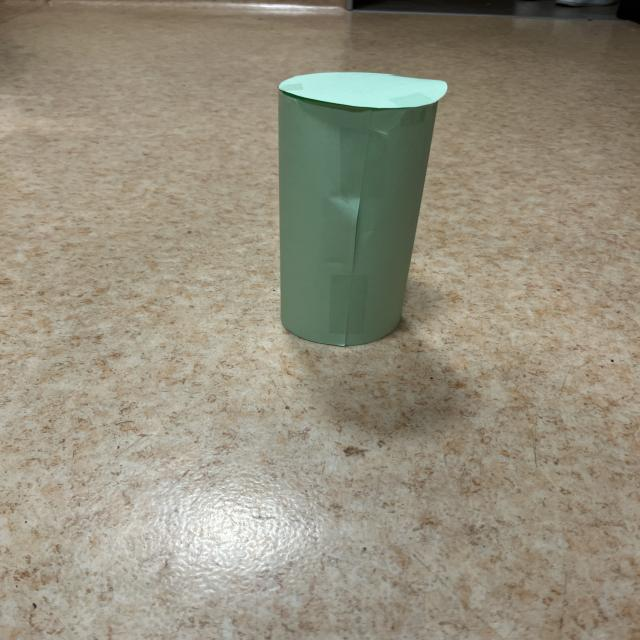meta: (278, 73, 447, 346)
